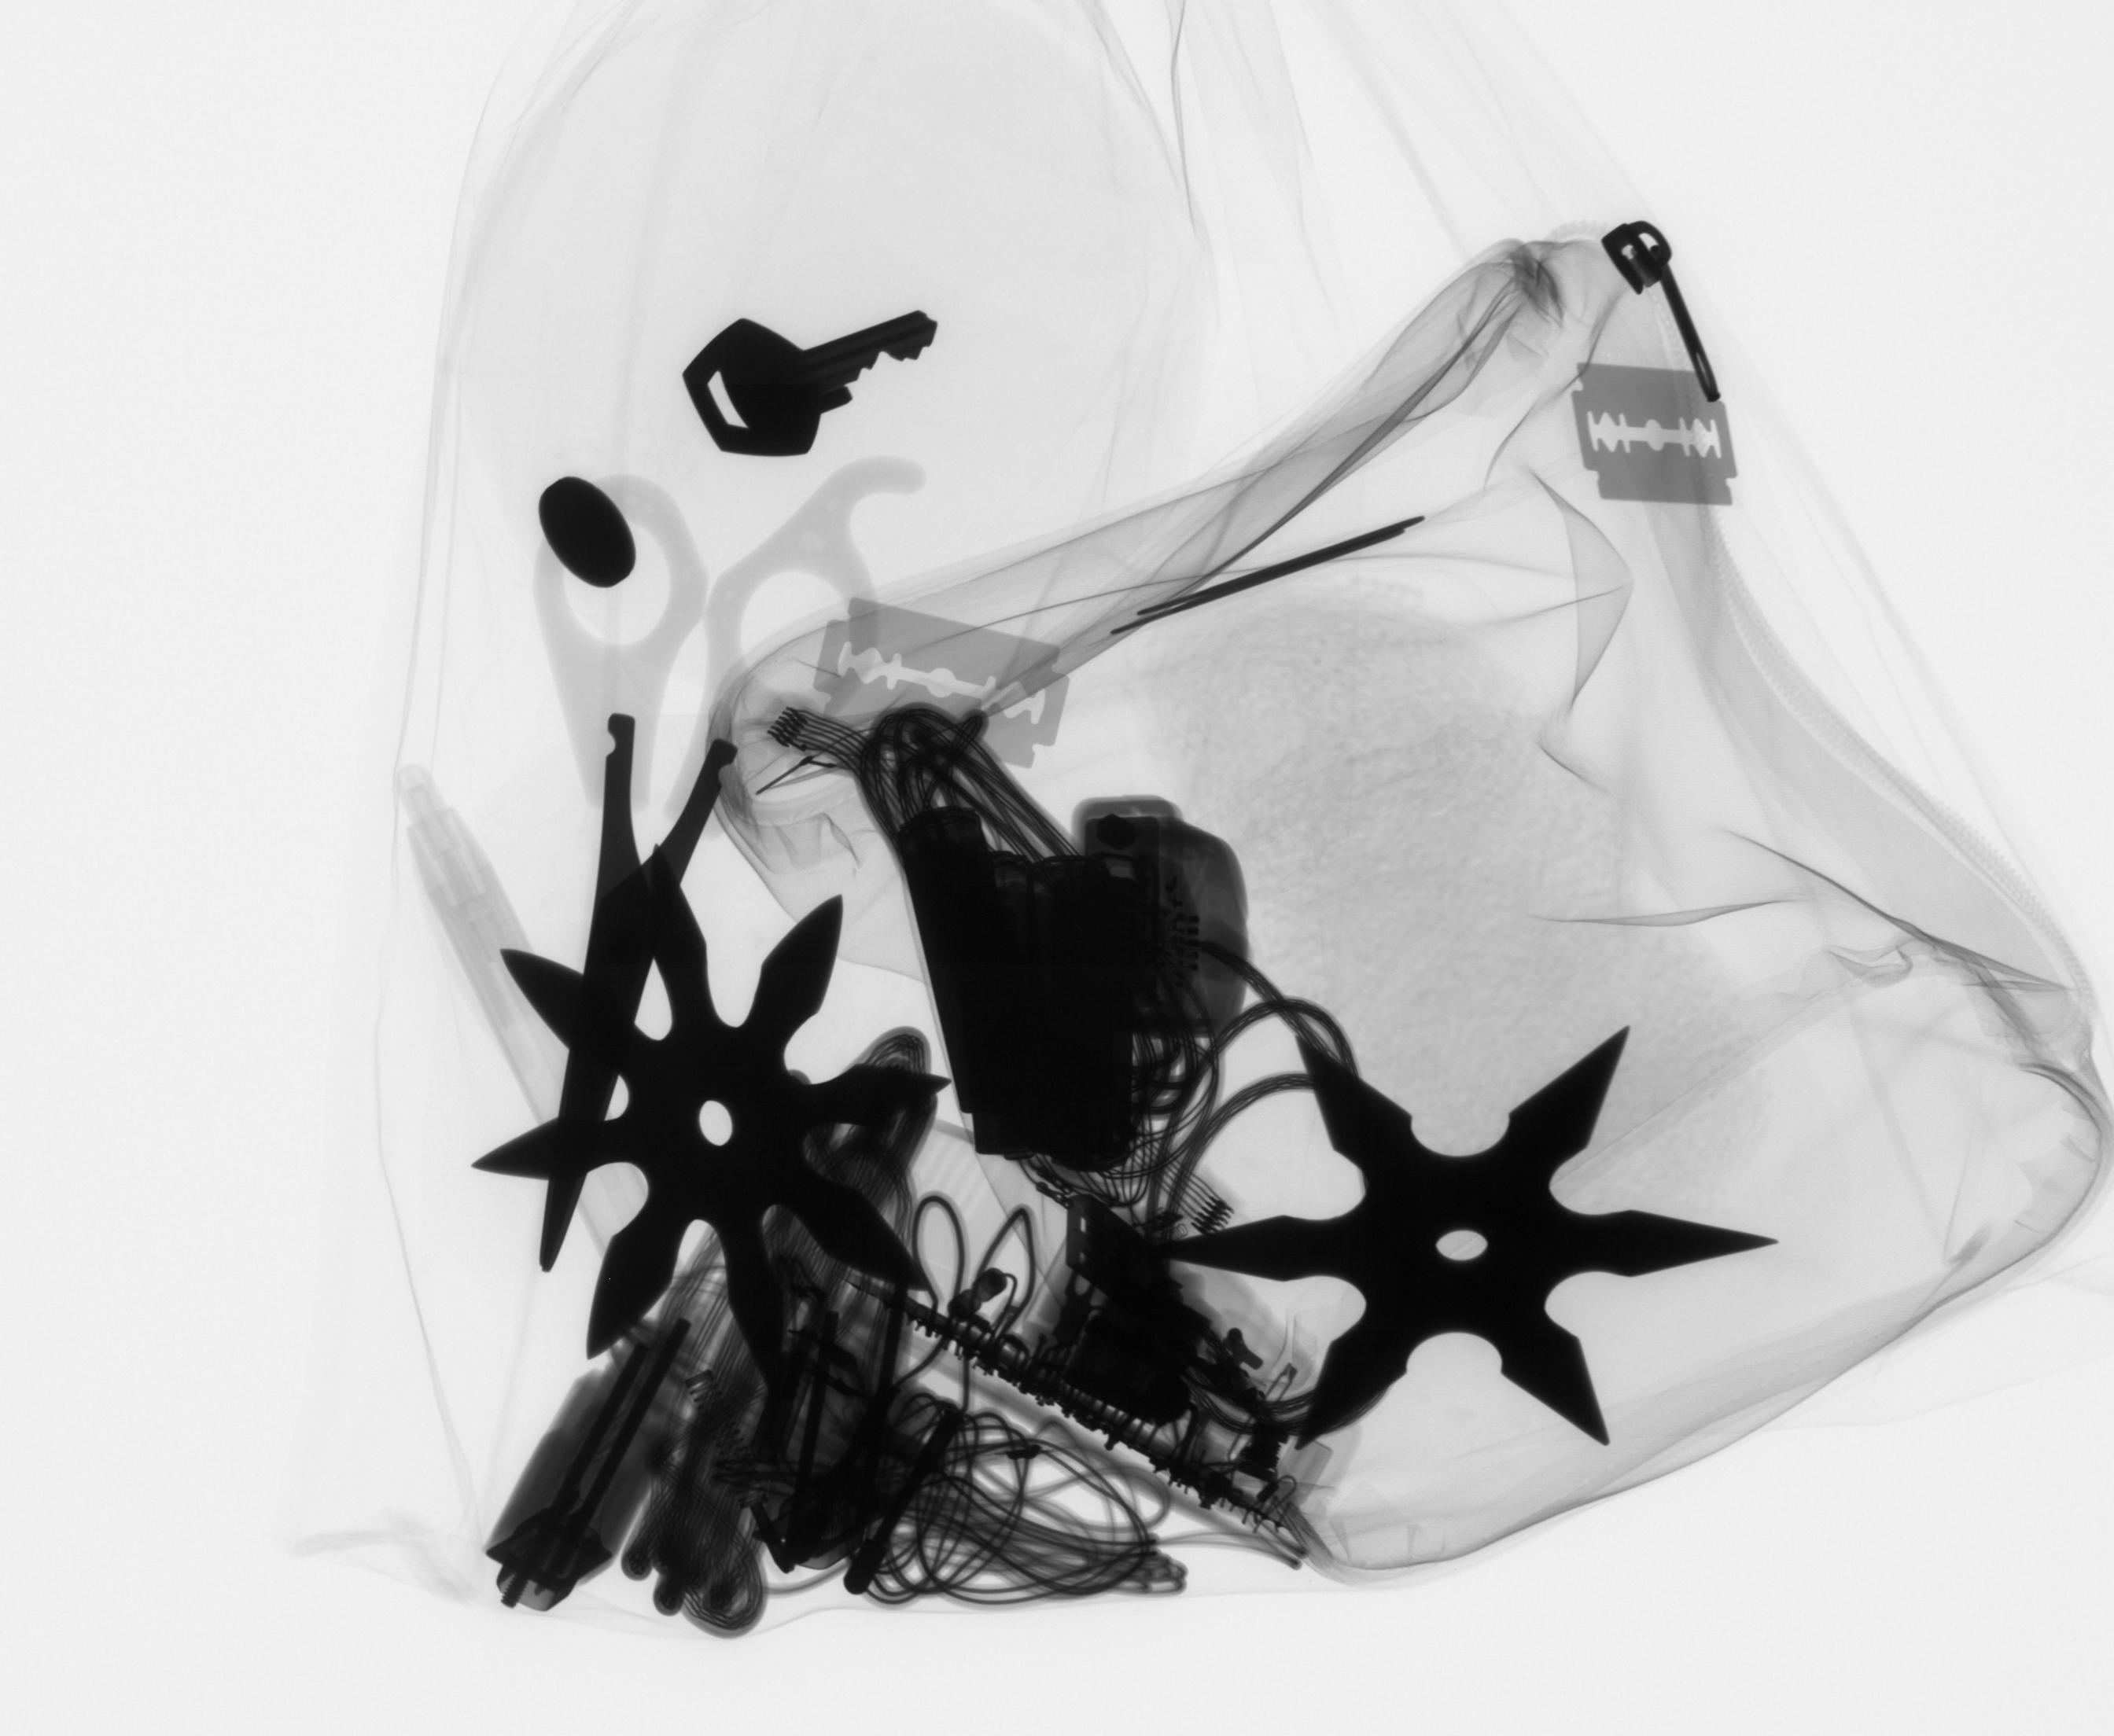RazorBlade: (815, 602, 1078, 785), (1559, 346, 1758, 528)
Shuriken: (1192, 1013, 1800, 1474), (462, 881, 974, 1371)
